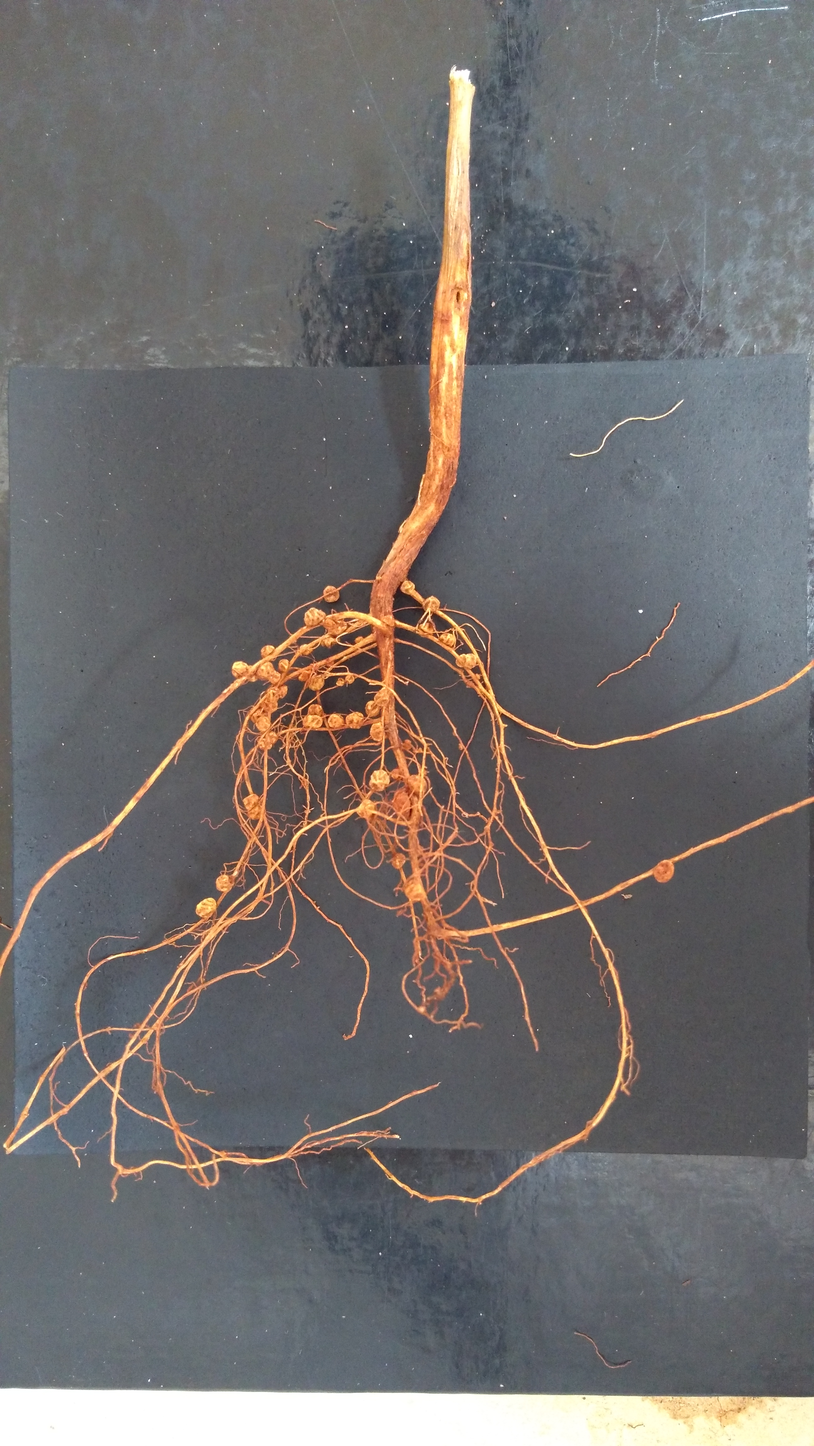nodule: (402, 874, 428, 904), (230, 659, 259, 683), (392, 786, 411, 822), (255, 661, 282, 686), (653, 858, 676, 885), (243, 794, 266, 819), (194, 896, 218, 919), (302, 704, 325, 728), (368, 769, 391, 793), (302, 607, 327, 628), (407, 773, 429, 796), (321, 619, 348, 636), (345, 711, 365, 731), (455, 652, 477, 670), (214, 873, 233, 893), (421, 595, 441, 614), (356, 799, 376, 818), (322, 584, 341, 603), (326, 712, 346, 730), (373, 687, 390, 707), (369, 722, 385, 743), (259, 644, 277, 662), (389, 852, 407, 870), (260, 694, 278, 712), (320, 636, 342, 650), (400, 579, 417, 596), (439, 632, 456, 649), (254, 716, 272, 732), (365, 699, 380, 718), (308, 675, 325, 691), (250, 706, 266, 722), (419, 621, 435, 636), (297, 668, 313, 683), (265, 730, 278, 746), (256, 738, 272, 751), (298, 643, 313, 656), (391, 767, 404, 780), (278, 658, 289, 673), (278, 684, 289, 698), (402, 739, 412, 751), (344, 674, 355, 684), (335, 677, 346, 686), (354, 635, 364, 644), (475, 672, 481, 680)
